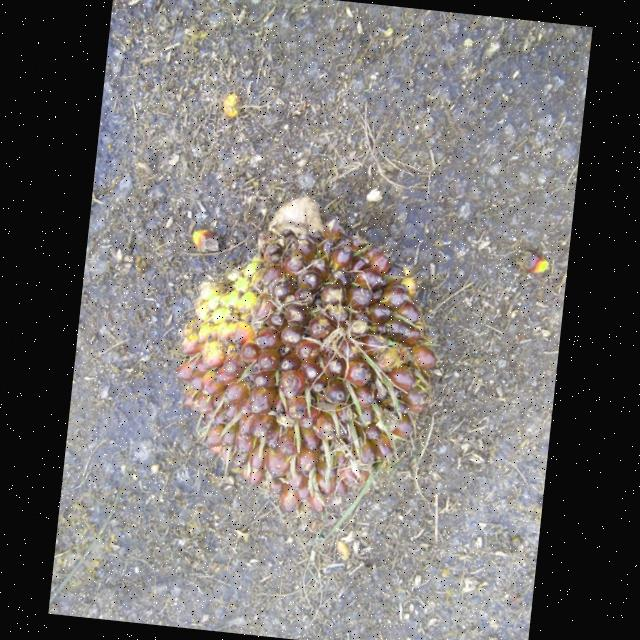Ripe: (176, 196, 435, 512)
